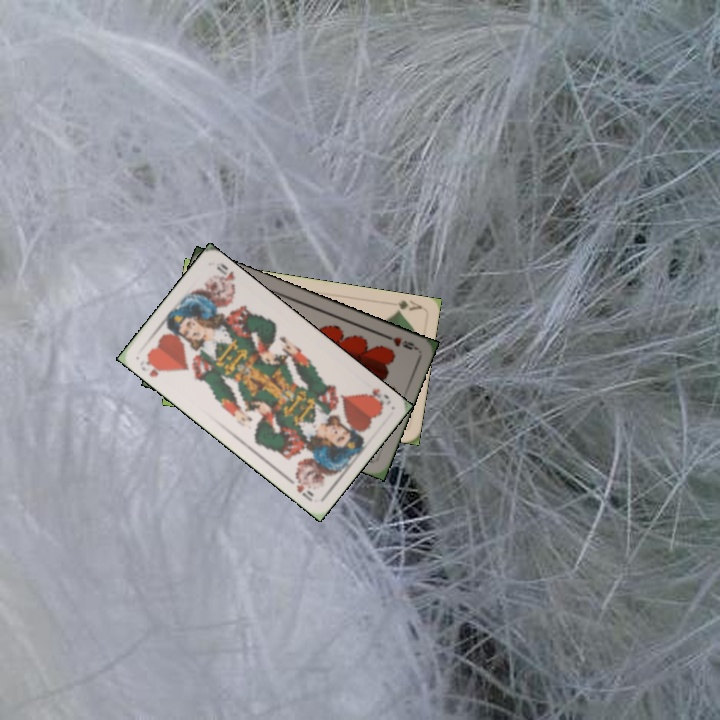GA: (392, 296, 424, 315)
H9: (380, 330, 419, 353)
HO: (361, 384, 394, 411), (137, 352, 167, 380)
